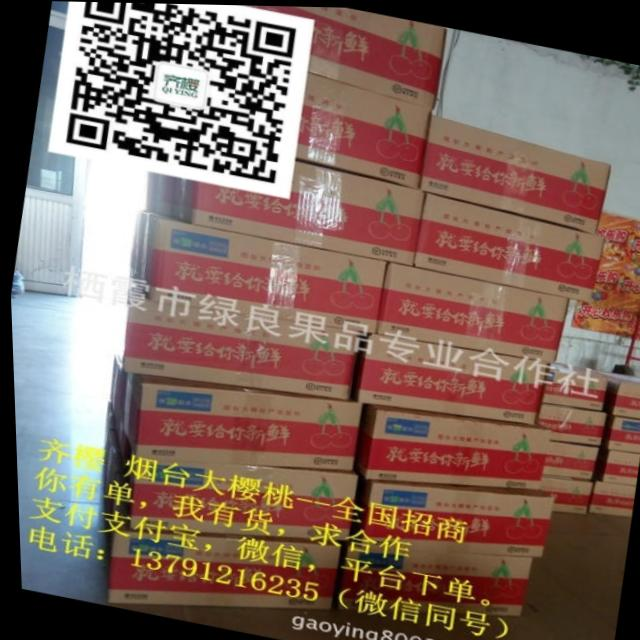box: (126, 210, 385, 332), (167, 157, 424, 264), (118, 292, 357, 400), (104, 499, 337, 608), (114, 369, 357, 470), (416, 111, 609, 231), (410, 190, 603, 298), (374, 259, 566, 361), (254, 4, 444, 106), (124, 458, 353, 540), (352, 330, 546, 423), (348, 403, 549, 487), (345, 475, 549, 555), (294, 71, 431, 188), (333, 540, 529, 613), (537, 360, 602, 408), (535, 399, 601, 445), (589, 366, 640, 417), (538, 438, 596, 477), (537, 472, 590, 510), (588, 445, 637, 482), (582, 478, 632, 513), (599, 409, 640, 450)
